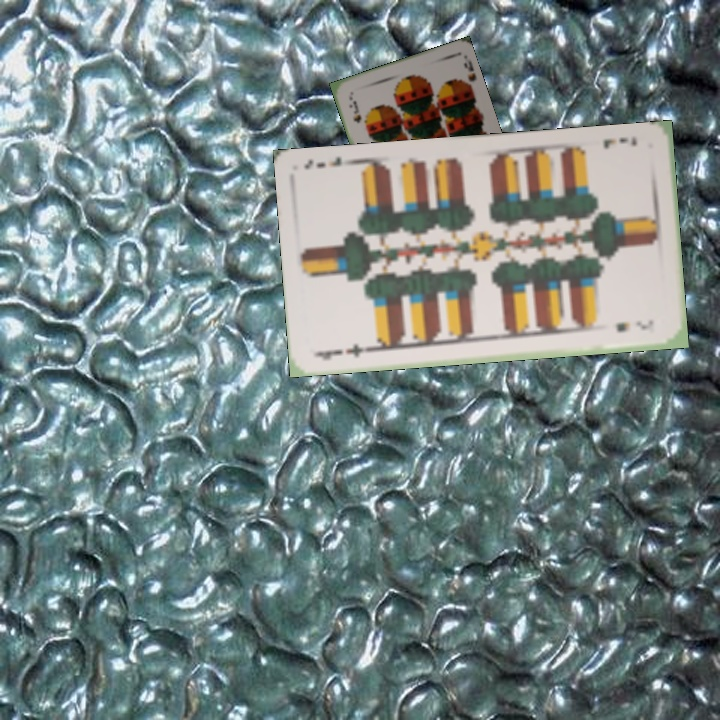E7: (313, 340, 372, 363), (600, 133, 639, 151)
S9: (345, 92, 364, 125)
